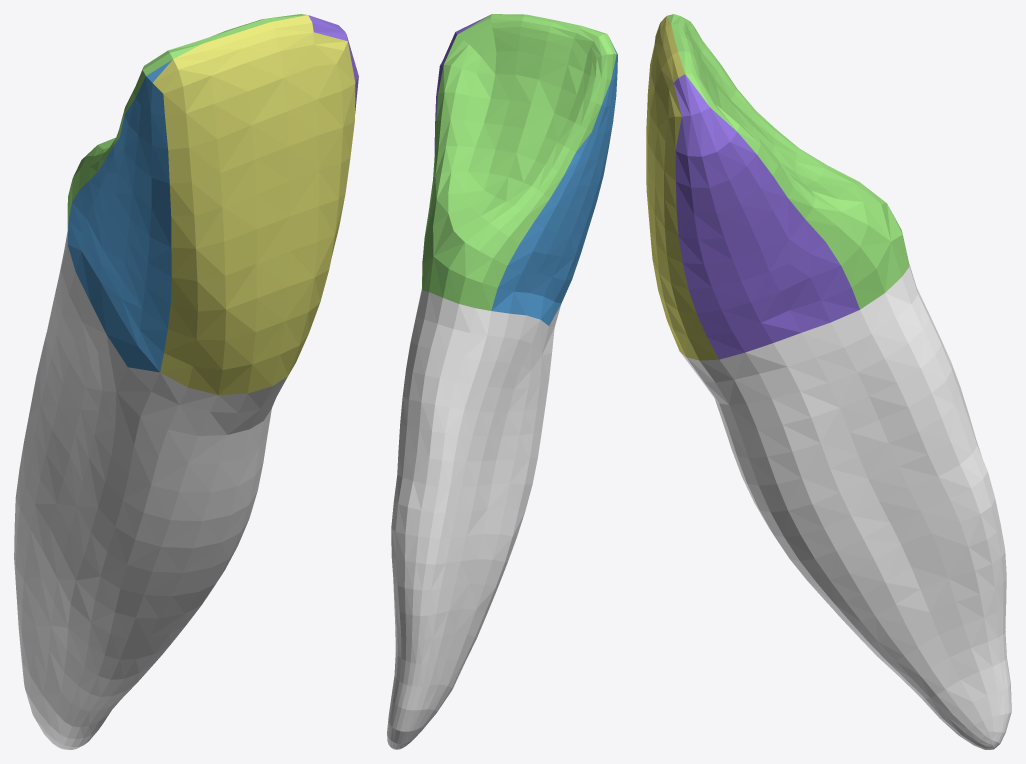
Rendered from tooth_31_annotated.glb.
3 views of the same model, side by side, from view 1: azimuth 30°, elevation 25°; view 2: azimuth 150°, elevation 25°; view 3: azimuth 270°, elevation 25° (orthographic). The views are drawn at different scales.
Parts seen in each view (by area): view 1: FDI_31; view 2: FDI_31; view 3: FDI_31.
Part boxes in pixels (x1,y1,x2,y2): FDI_31: (14, 14, 358, 749); FDI_31: (387, 14, 617, 749); FDI_31: (646, 14, 1011, 749).
Size of the model in its own units: 0.00539 by 0.0199 by 0.00938.
